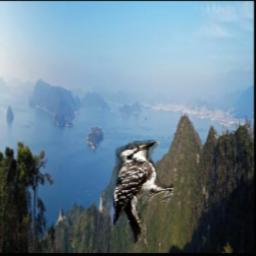Woodpecker: (108, 138, 173, 244)
